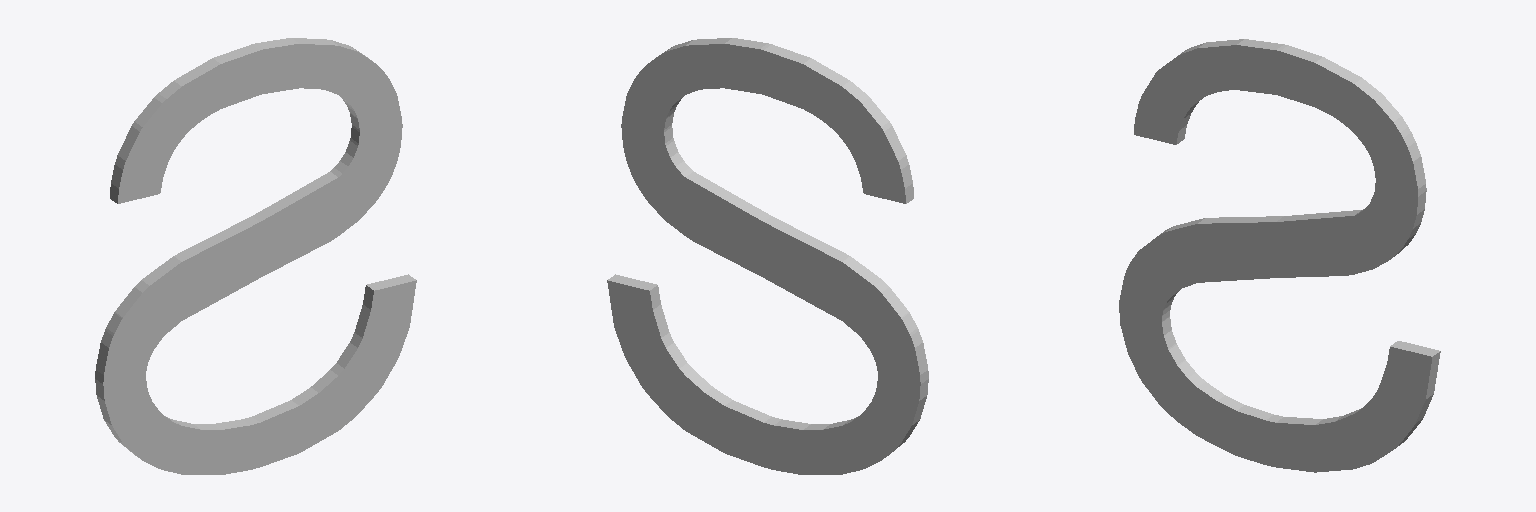
Rendered from S_UPPER.obj.
The picture shows the model from 3 angles: view 1: azimuth 30°, elevation 25°; view 2: azimuth 150°, elevation 25°; view 3: azimuth 330°, elevation 25°; orthographic projection.
Parts seen in each view (by area): view 1: default; view 2: default; view 3: default.
Boxes of the visible parts, box(x1,y1,x2,y2) form: default: box(95, 38, 416, 474); default: box(607, 38, 928, 474); default: box(1119, 39, 1440, 472).
Size of the model in its own units: 2.2 by 2.8 by 0.1.